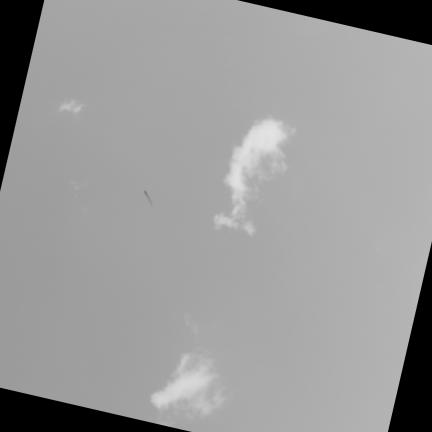Shahed: (143, 189, 155, 209)
